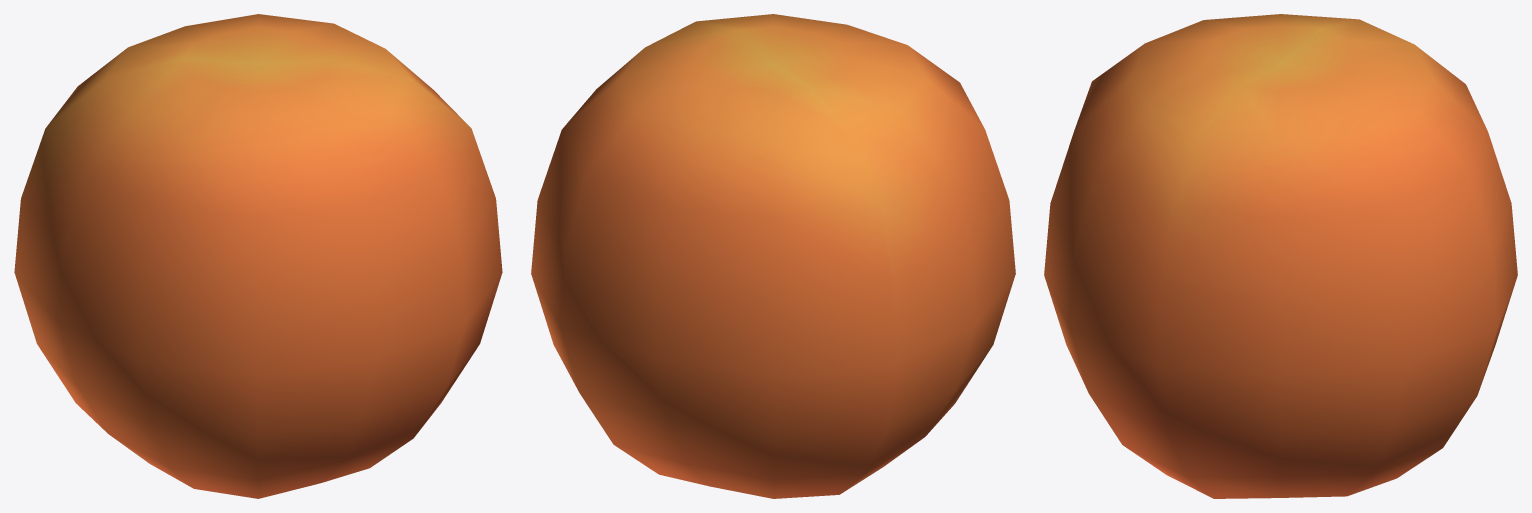
The model's file is Mesh_Orange.fbx.
3 views of the same model, side by side, from view 1: azimuth 30°, elevation 25°; view 2: azimuth 150°, elevation 25°; view 3: azimuth 270°, elevation 25° (orthographic). The views are drawn at different scales.
Parts seen in each view (by area): view 1: Orange; view 2: Orange; view 3: Orange.
Boxes of the visible parts, x1,y1,x2,y2 form: Orange: [14, 14, 502, 498]; Orange: [531, 14, 1015, 498]; Orange: [1044, 14, 1517, 498].
Bounding box in the file's own units: 174 × 167 × 174.
